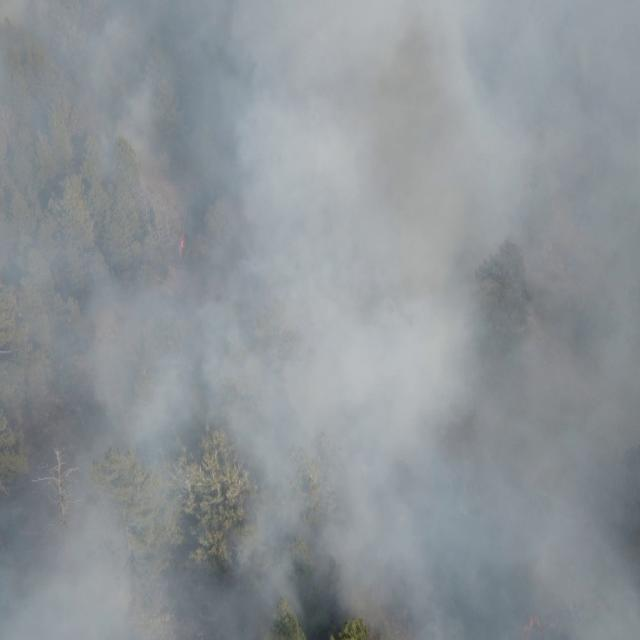fire: (520, 612, 550, 640), (174, 230, 189, 260)
smoke: (0, 0, 640, 640)
